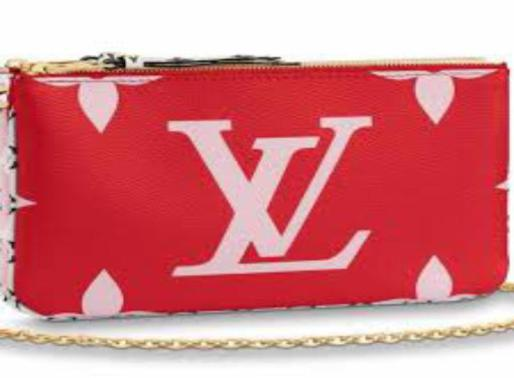LOUIS-VUITTON: (138, 99, 391, 282)
